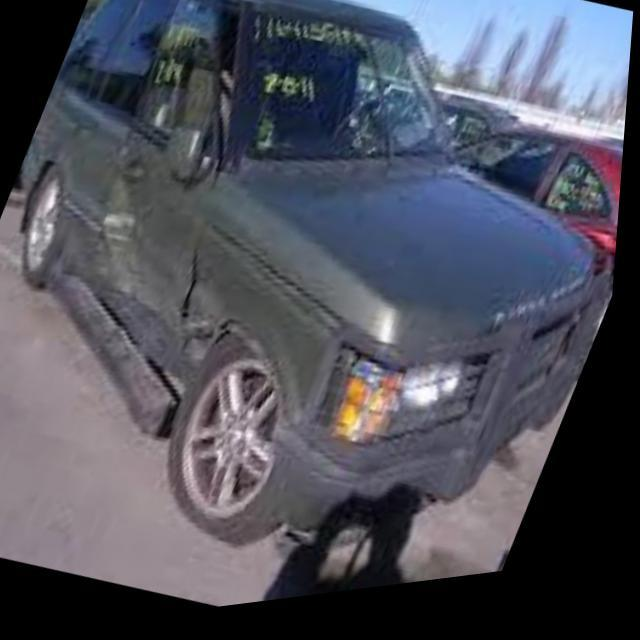dislocated part: (70, 7, 242, 449)
